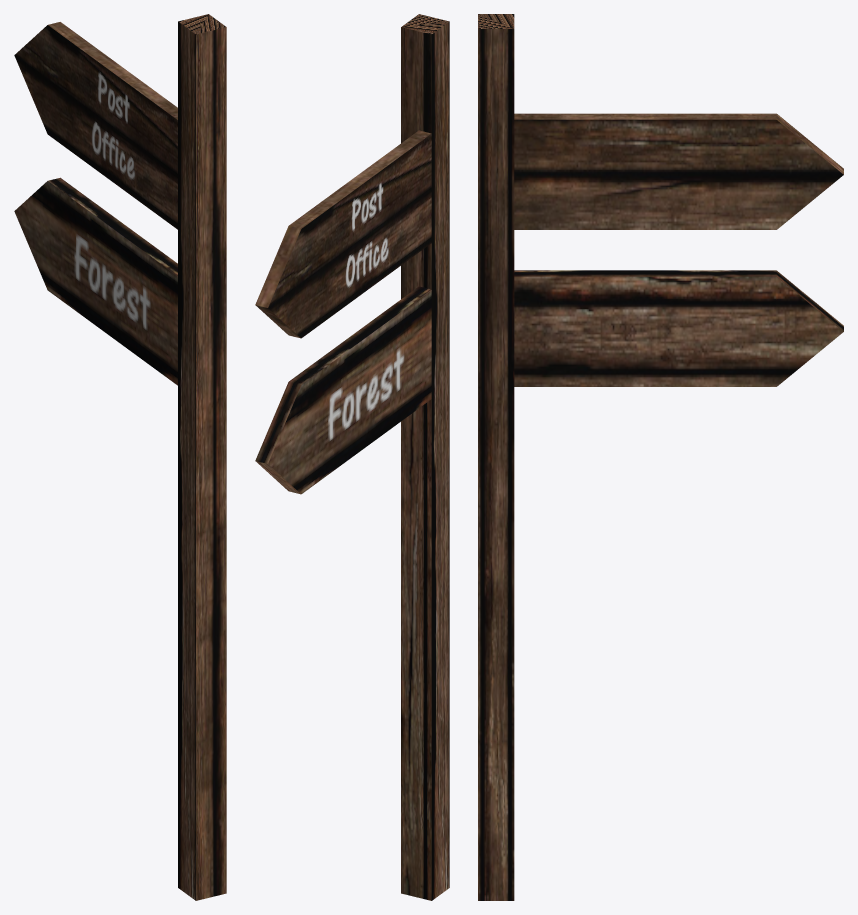
File: direction3.fbx
3 renders of one model, left to right at view 1: azimuth 30°, elevation 25°; view 2: azimuth 150°, elevation 25°; view 3: azimuth 270°, elevation 25°, orthographic.
Parts seen in each view (by area): view 1: Plane.070; view 2: Plane.070; view 3: Plane.070.
Part boxes in pixels (x1=…): Plane.070: x1=14, y1=14, x2=226, y2=900; Plane.070: x1=255, y1=14, x2=449, y2=900; Plane.070: x1=478, y1=14, x2=843, y2=900.
Bounding box in the file's own units: 12.9 × 348 × 132.
1 material, 1 textured.
